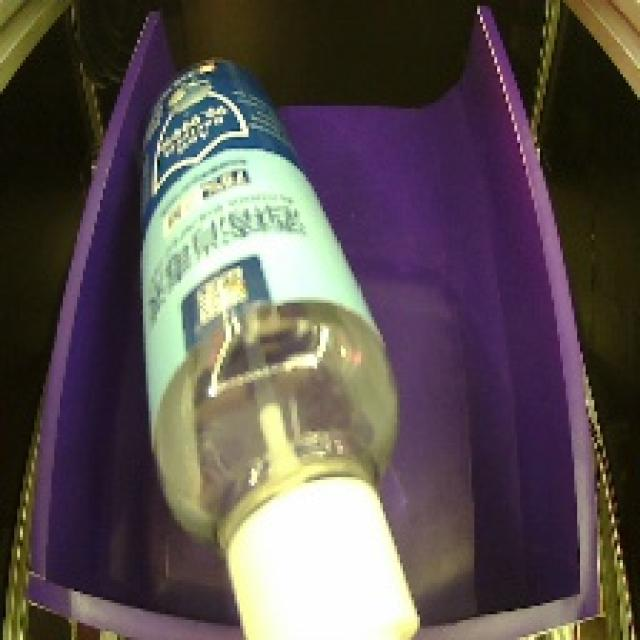plastic: (100, 35, 441, 640)
